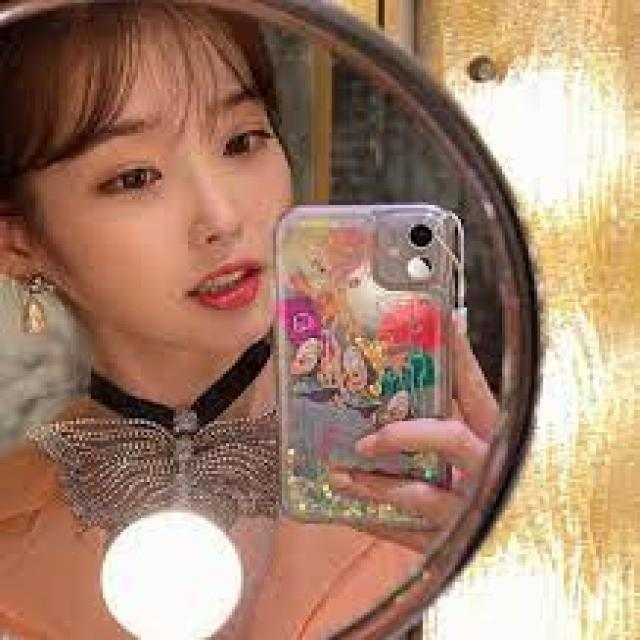Phone: (272, 200, 464, 526)
